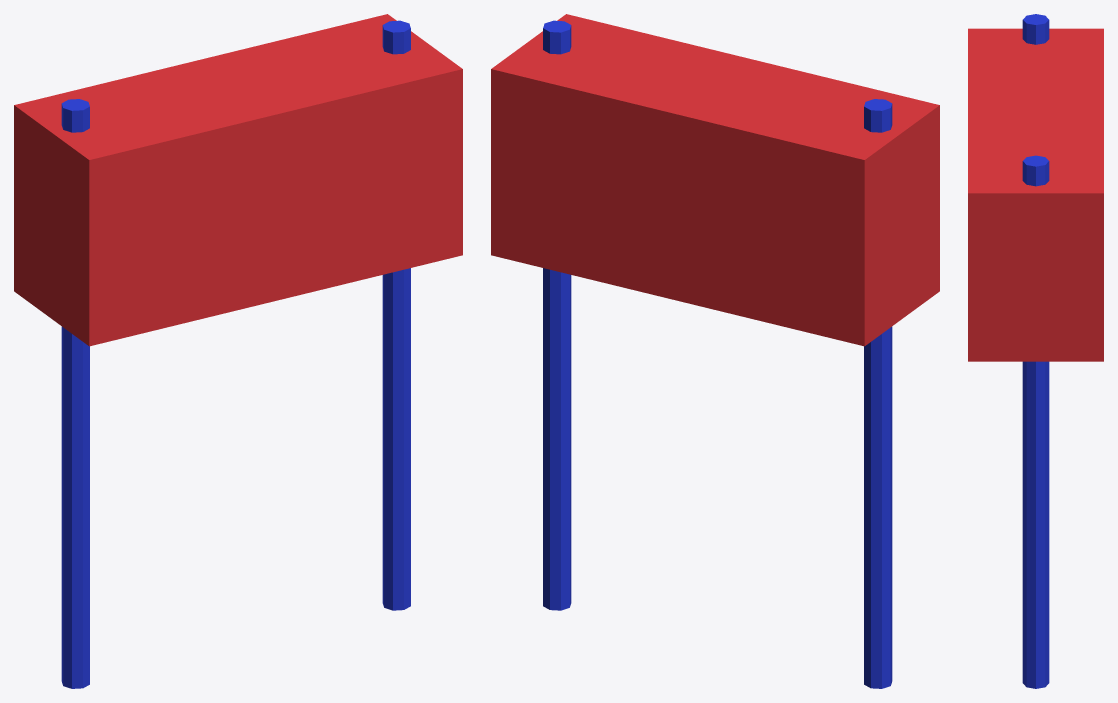
Rendered from engel5.fbx.
3 views of the same model, side by side, from view 1: azimuth 30°, elevation 25°; view 2: azimuth 150°, elevation 25°; view 3: azimuth 270°, elevation 25° (orthographic). The views are drawn at different scales.
Parts seen in each view (by area): view 1: Cube.002, Cylinder.004; view 2: Cube.002, Cylinder.004; view 3: Cube.002, Cylinder.004.
Boxes of the visible parts, x1=… form: Cube.002: x1=14, y1=14, x2=462, y2=346; Cylinder.004: x1=61, y1=20, x2=410, y2=688; Cube.002: x1=491, y1=14, x2=939, y2=346; Cylinder.004: x1=543, y1=20, x2=892, y2=688; Cube.002: x1=968, y1=28, x2=1103, y2=361; Cylinder.004: x1=1022, y1=14, x2=1049, y2=688.
Size of the model in its own units: 470 by 694 by 164.
